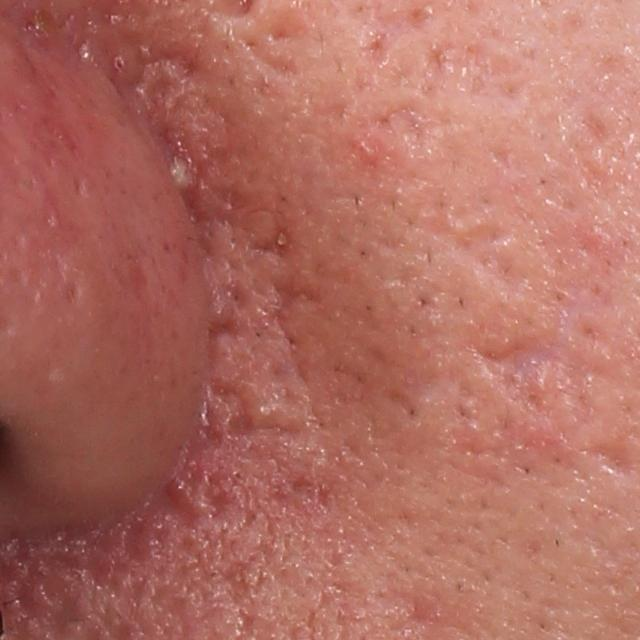atrophic_scar: (469, 221, 618, 417), (197, 376, 261, 445), (257, 278, 329, 334), (249, 204, 306, 269), (284, 468, 338, 520), (204, 317, 248, 365)
pustule: (163, 151, 201, 198)
